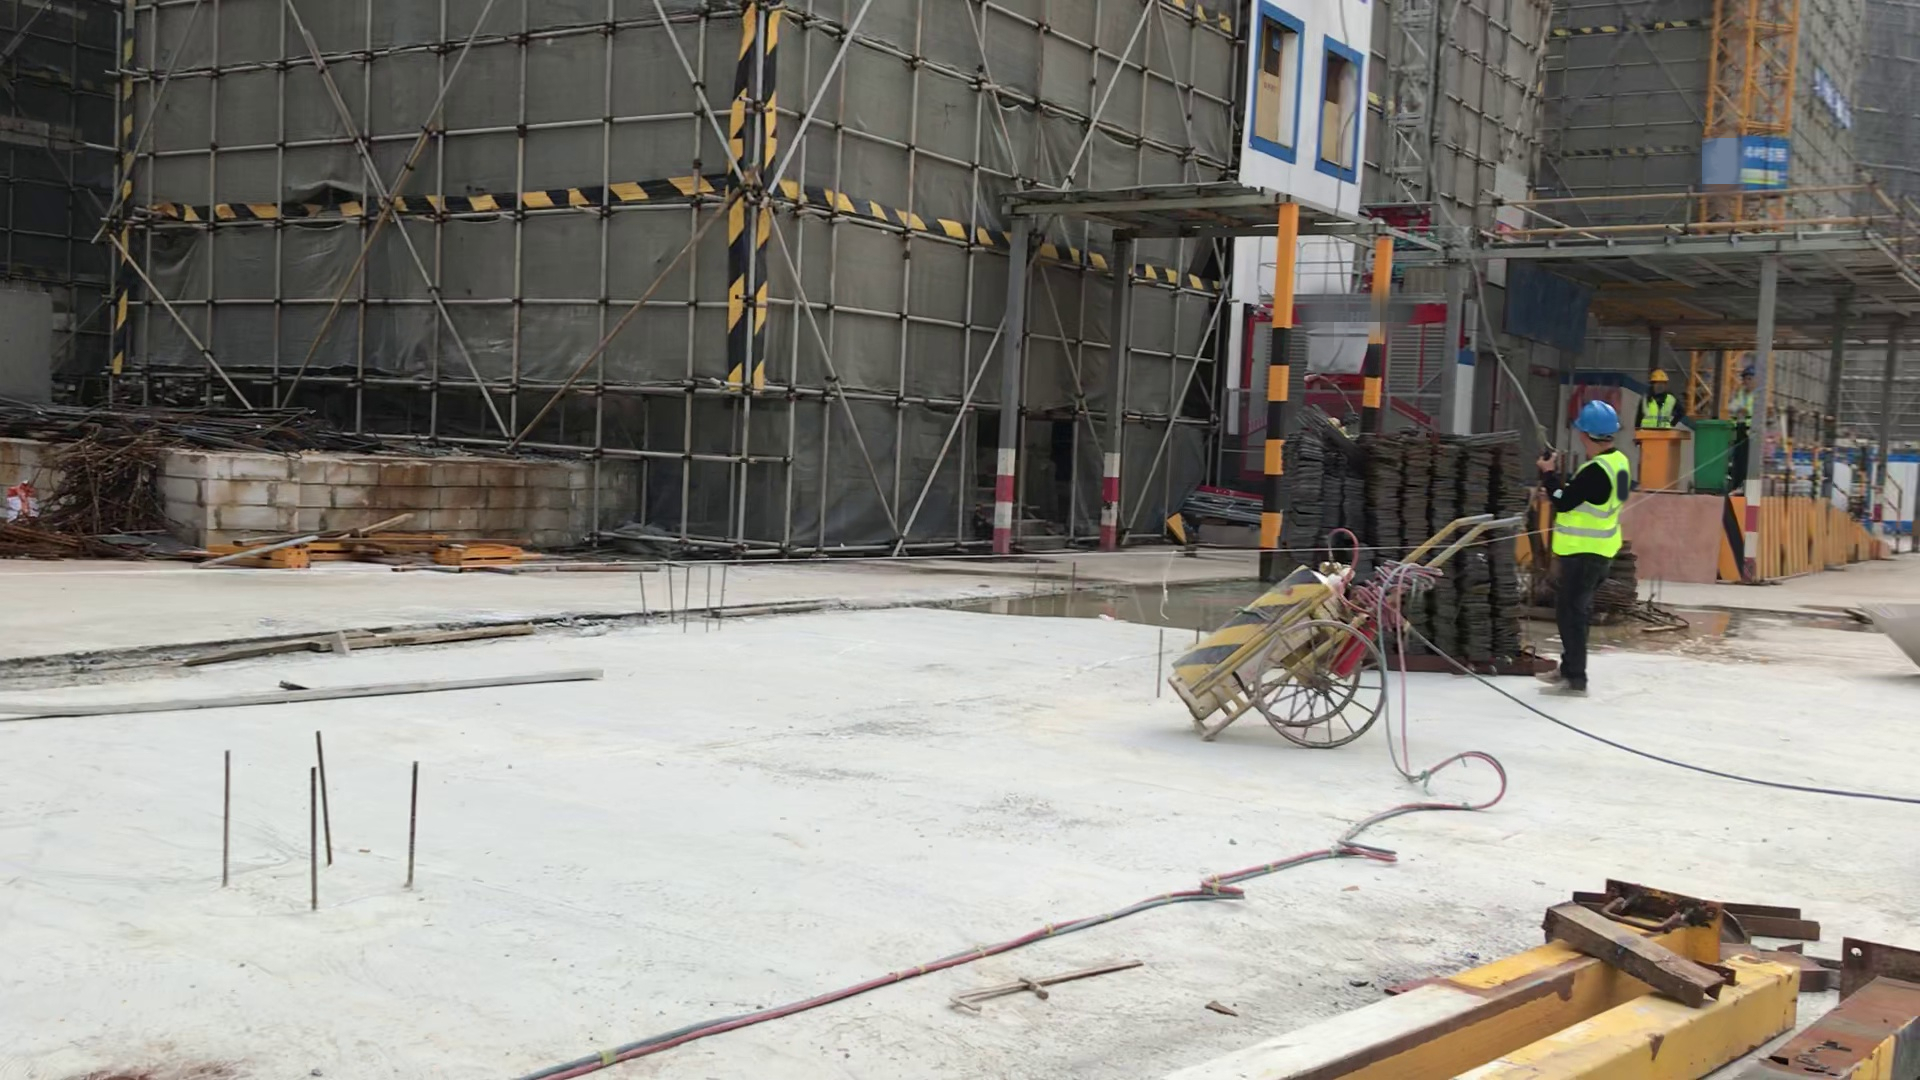fence: (1747, 364, 1911, 548)
handcart: (1172, 487, 1559, 800)
helmet: (1575, 398, 1624, 434), (1650, 371, 1669, 385), (1744, 360, 1757, 378)
person: (1543, 393, 1633, 709), (1636, 368, 1686, 432), (1731, 364, 1754, 476)
vest: (1556, 451, 1629, 561), (1641, 388, 1682, 432), (1738, 387, 1755, 445)
